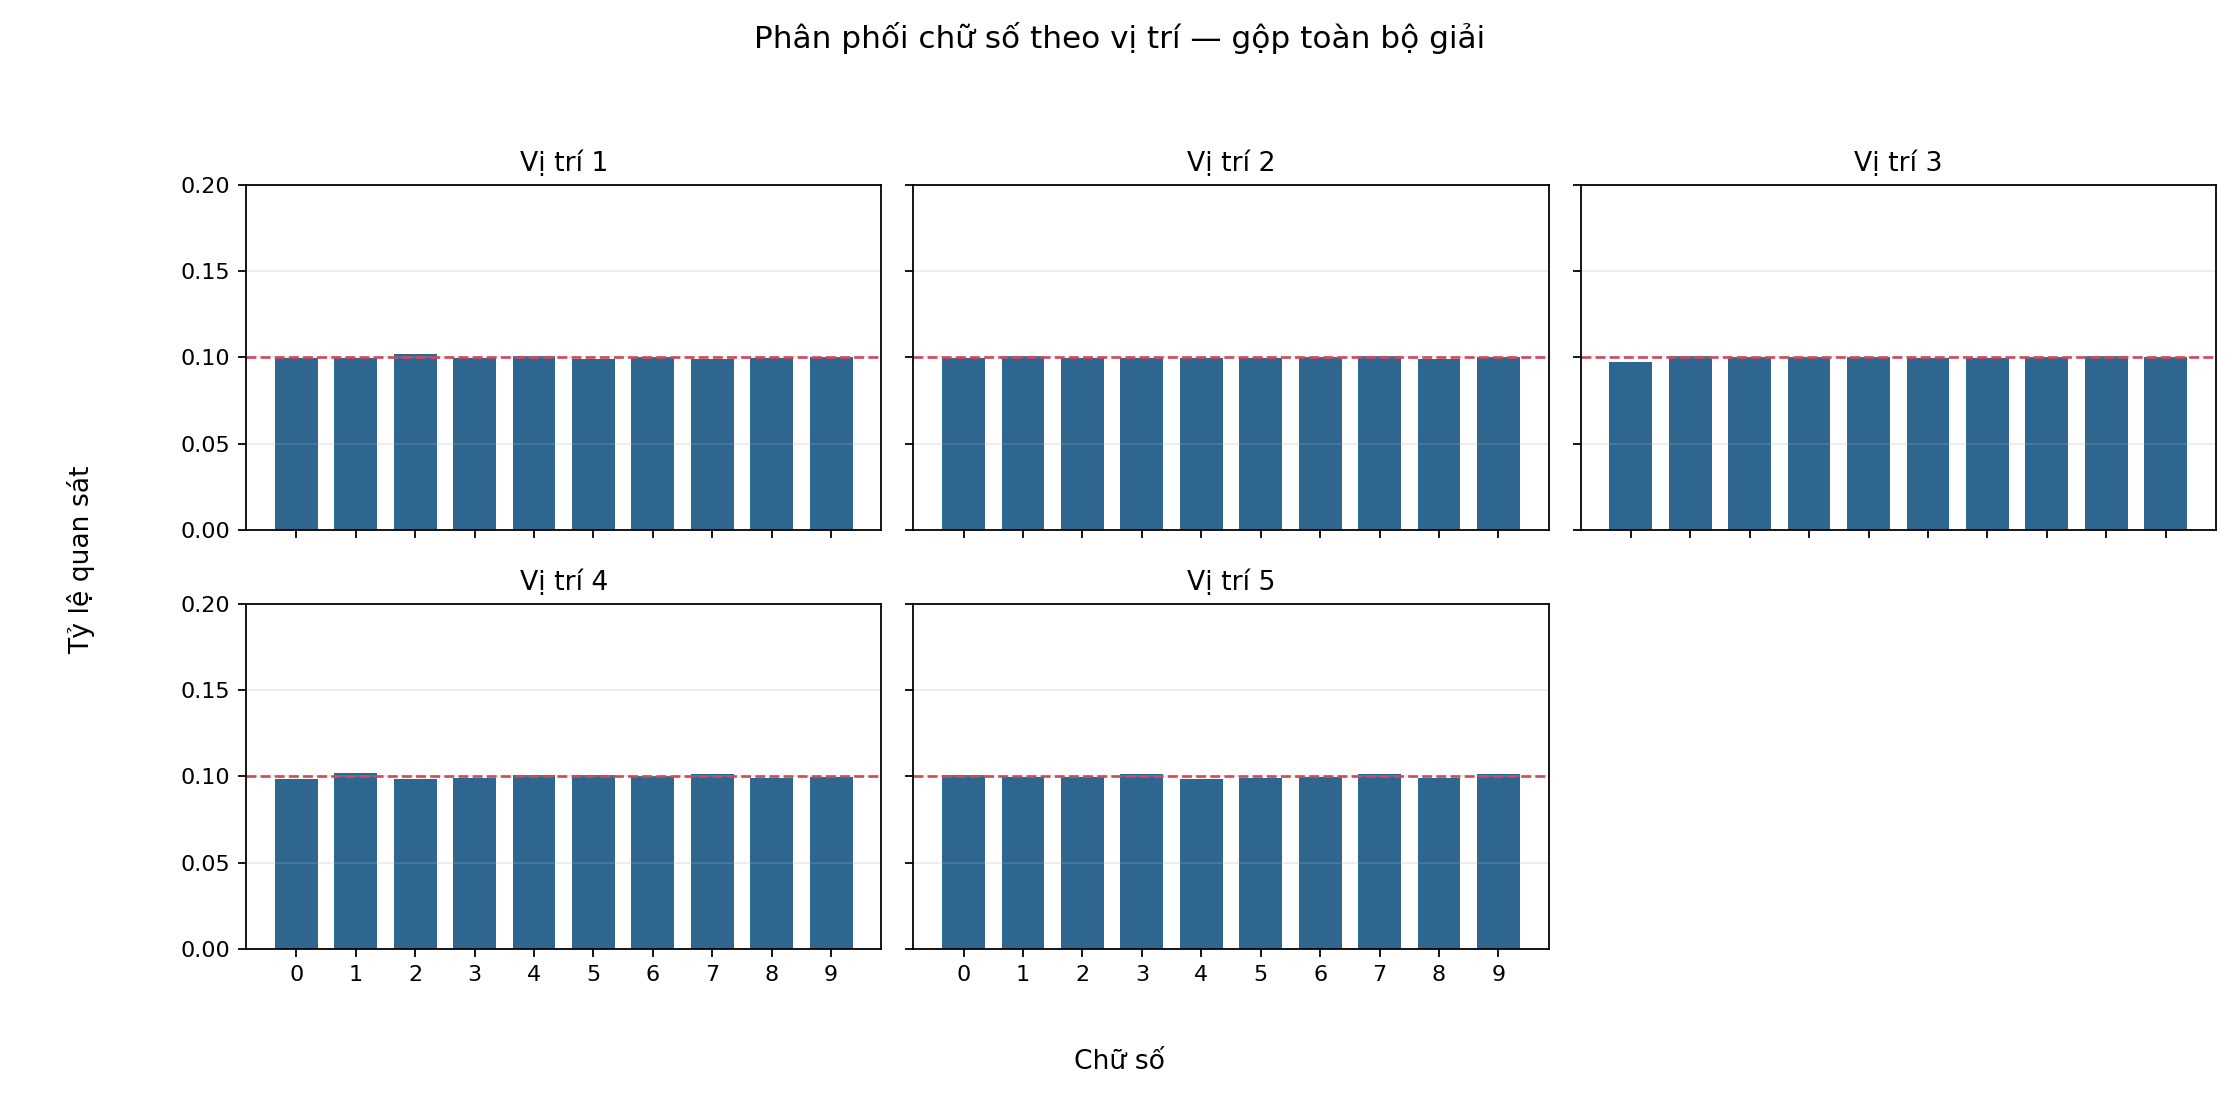

What the dashboard file says about the page in this screenshot:
{"tool":"powerbi","page":{"name":"Uniform Distribution","canvas":[1280,720],"ordinal":0},"visuals":[{"type":"clusteredColumnChart","fields":{"Y":["CountNonNull(KQXS.num)"],"Category":["KQXS.num"]},"box":[0,120,1236.2,600],"z":0}]}

Visuals, with their boxes on the page's 1280x720 design canvas (x1, y1, x2, y2). These are canvas units, not pixel positions in the 2240x1120 screenshot, which may show the page scaled, cropped or inside an application window:
clusteredColumnChart - CountNonNull(KQXS.num) x KQXS.num: {"x1": 0, "y1": 120, "x2": 1236, "y2": 720}
